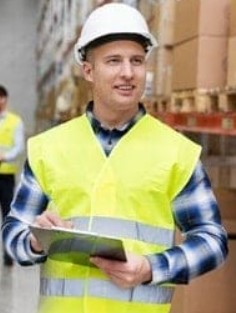worker: (28, 4, 200, 313)
